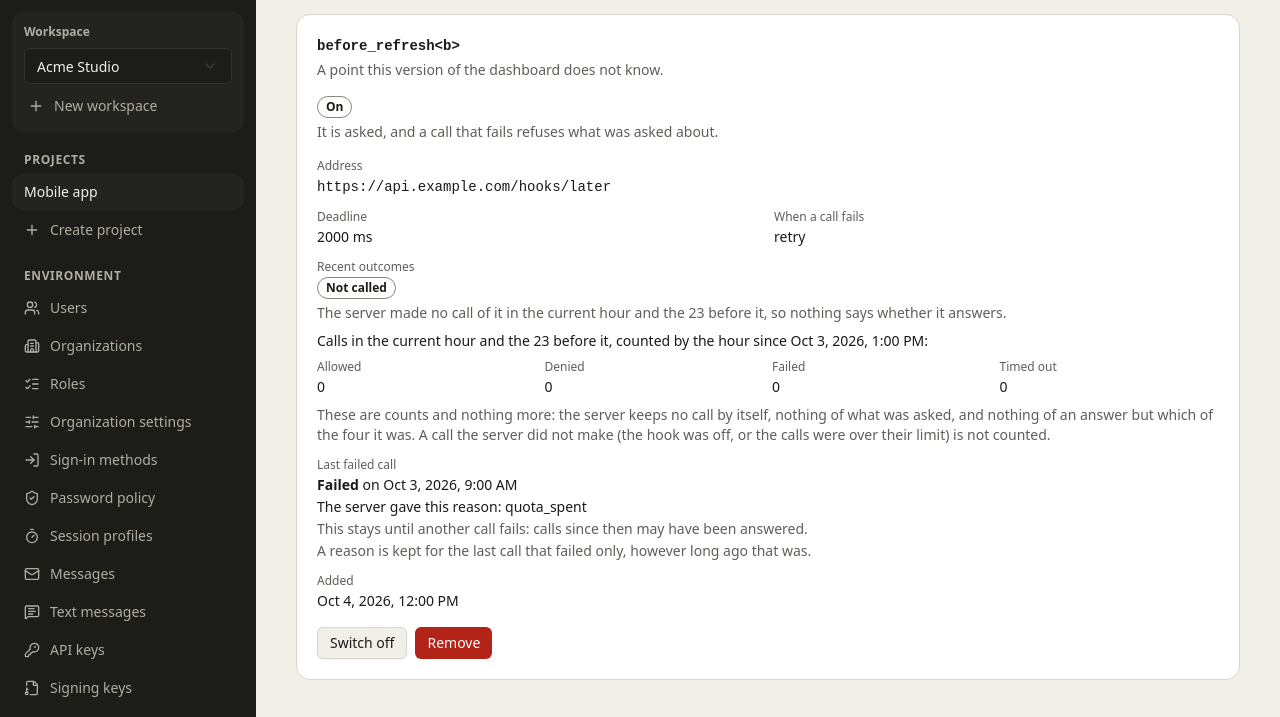
it: the list of points › what a later server knows is shown as the text it is, and can still be removed
The image size is (1280, 717).
(page scrolled)
Expected: the text "A point this version of the dashboard does not know." is shown, [317,60,664,79]
Expected: the text "retry" is shown, [774,227,805,246]
Click the button with aria-label "Remove the hook for before_refresh<b>" at (454, 643), box [416,627,492,659]
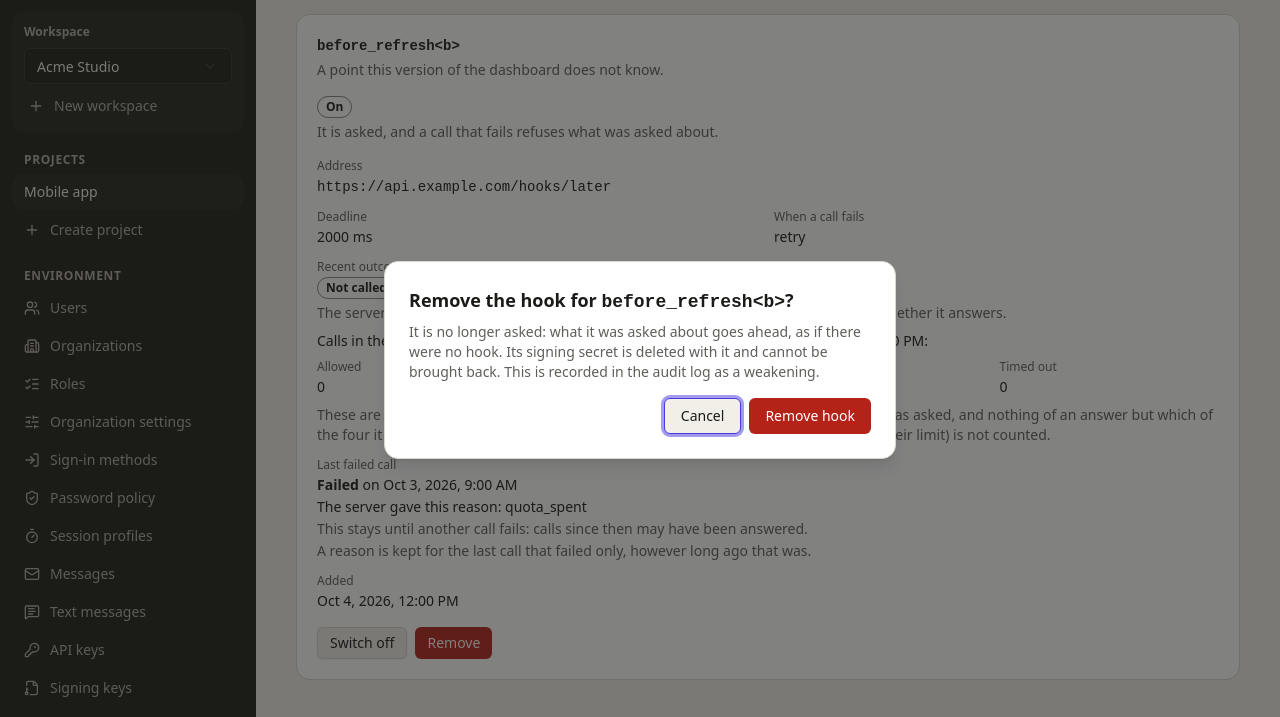
Click the button "Remove hook" at (810, 416), box [749,398,871,434]
(page scrolled)
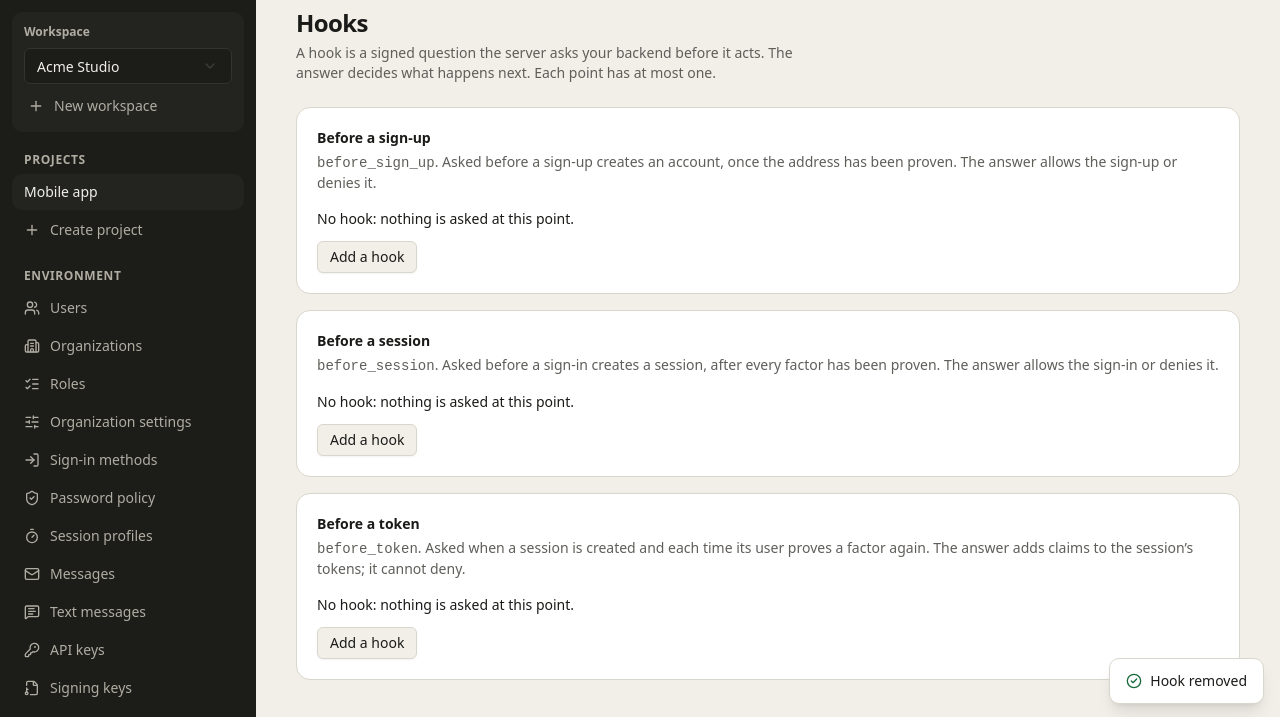
Expected: the number of elements with test id "hook-point" is 3, [296,107,1240,294]; [296,310,1240,477]; [296,493,1240,680]
